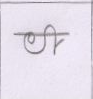i_matra: (46, 24, 61, 55)
